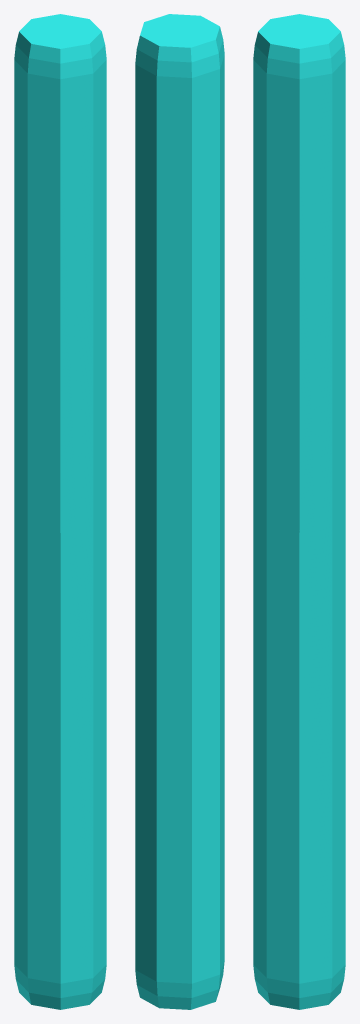
Rendered from Astral Rod.fbx.
3 renders of one model, left to right at view 1: azimuth 90°, elevation 25°; view 2: azimuth 150°, elevation 25°; view 3: azimuth 270°, elevation 25°, orthographic.
Parts seen in each view (by area): view 1: Cylinder; view 2: Cylinder; view 3: Cylinder.
Part boxes in pixels (x1,y1,x2,y2): Cylinder: (14, 14, 106, 1009); Cylinder: (135, 14, 224, 1009); Cylinder: (253, 14, 345, 1009).
Size of the model in its own units: 7.61 by 87.19 by 7.61.
